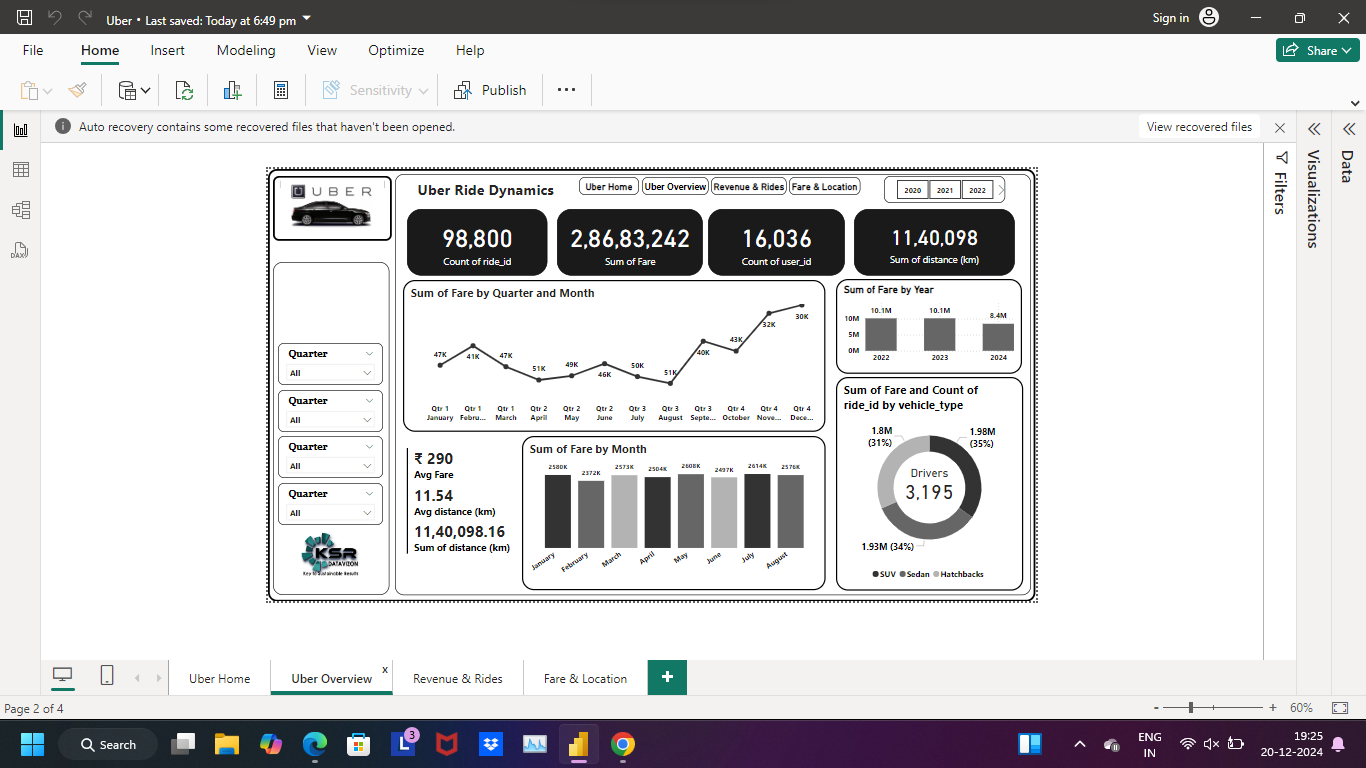

The page's visual inventory and layout, read from the dashboard file:
{"tool":"powerbi","page":{"name":"Uber Overview","canvas":[1280,720],"ordinal":1},"visuals":[{"type":"shape","box":[0,0,1279.2,720.8],"z":0},{"type":"shape","box":[211.3,7.5,1060.4,701.9],"z":1000},{"type":"slicer","fields":{"Values":["Sheet1.created_at.Variation.Date Hierarchy.Year"]},"box":[1026.4,11.3,202,45.3],"z":2000},{"type":"textbox","box":[232.1,11.3,262.3,41.5],"z":3000},{"type":"card","fields":{"Values":["Rides.distance (km)"]},"box":[977.4,66,267.9,111.3],"z":4000},{"type":"card","fields":{"Values":["Sheet1.user_id"]},"box":[734,66,228.3,111.3],"z":5000},{"type":"card","fields":{"Values":["Rides.Fare"]},"box":[481.1,66,243.4,111.3],"z":6000},{"type":"card","fields":{"Values":["Rides.ride_id"]},"box":[232.1,66,234,111.3],"z":7000},{"type":"columnChart","fields":{"Y":["Rides.Fare"],"Category":["Rides.ride_start_time.Variation.Date Hierarchy.Year"]},"box":[946.2,182.7,309.6,157.7],"z":8000},{"type":"donutChart","fields":{"Category":["row.vehicle_type"],"Y":["Rides.Fare"]},"box":[946.2,346.2,311.5,355.8],"z":9000},{"type":"lineChart","fields":{"Category":["Rides.ride_end_time.Variation.Date Hierarchy.Quarter","Rides.ride_end_time.Variation.Date Hierarchy.Month"],"Y":["Rides.Fare"]},"box":[224.5,184.9,703.8,252.8],"z":10000},{"type":"columnChart","fields":{"Y":["Rides.Fare"],"Category":["Rides.ride_start_time.Variation.Date Hierarchy.Month"]},"box":[422.6,445.3,505.7,256.6],"z":11000},{"type":"multiRowCard","fields":{"Values":["Rides.Fare","Rides.distance (km)","Rides.distance (km)"]},"box":[218.9,460.4,190,224.5],"z":12000},{"type":"shape","box":[7.5,154.7,194.3,554.7],"z":13000},{"type":"actionButton","box":[622.6,13.2,111,30.2],"z":14000},{"type":"actionButton","box":[867.9,13.2,118.9,30.2],"z":15000},{"type":"actionButton","box":[737.7,13.2,126.4,30.2],"z":16000},{"type":"slicer","fields":{"Values":["Rides.ride_end_time.Variation.Date Hierarchy.Quarter"]},"box":[17,522.6,175.5,69.8],"z":17000},{"type":"slicer","fields":{"Values":["Rides.ride_end_time.Variation.Date Hierarchy.Quarter"]},"box":[17,445.3,175.5,69.8],"z":18000},{"type":"slicer","fields":{"Values":["Rides.ride_end_time.Variation.Date Hierarchy.Quarter"]},"box":[17,367.9,175.5,69.8],"z":19000},{"type":"slicer","fields":{"Values":["Rides.ride_end_time.Variation.Date Hierarchy.Quarter"]},"box":[17,290.6,175.5,69.8],"z":20000},{"type":"image","box":[7.5,11.3,198.1,107.5],"z":21000},{"type":"image","box":[17,598.1,175.5,86.8],"z":22000},{"type":"card","title":"Drivers","fields":{"Values":["Rides.driver_id"]},"box":[1034.6,494.2,134.6,63.5],"z":23000},{"type":"actionButton","box":[518.9,13.2,100,30.2],"z":24000}]}

Visuals, with their boxes on the page's 1280x720 design canvas (x1, y1, x2, y2). These are canvas units, not pixel positions in the 1366x768 screenshot, which may show the page scaled, cropped or inside an application window:
shape: BBox(0, 0, 1279, 721)
shape: BBox(211, 8, 1272, 709)
slicer - Sheet1.created_at.Variation.Date Hierarchy.Year: BBox(1026, 11, 1228, 57)
textbox: BBox(232, 11, 494, 53)
card - Rides.distance (km): BBox(977, 66, 1245, 177)
card - Sheet1.user_id: BBox(734, 66, 962, 177)
card - Rides.Fare: BBox(481, 66, 724, 177)
card - Rides.ride_id: BBox(232, 66, 466, 177)
columnChart - Rides.Fare x Rides.ride_start_time.Variation.Date Hierarchy.Year: BBox(946, 183, 1256, 340)
donutChart - row.vehicle_type x Rides.Fare: BBox(946, 346, 1258, 702)
lineChart - Rides.ride_end_time.Variation.Date Hierarchy.Quarter x Rides.ride_end_time.Variation.Date Hierarchy.Month: BBox(224, 185, 928, 438)
columnChart - Rides.Fare x Rides.ride_start_time.Variation.Date Hierarchy.Month: BBox(423, 445, 928, 702)
multiRowCard - Rides.Fare x Rides.distance (km): BBox(219, 460, 409, 685)
shape: BBox(8, 155, 202, 709)
actionButton: BBox(623, 13, 734, 43)
actionButton: BBox(868, 13, 987, 43)
actionButton: BBox(738, 13, 864, 43)
slicer - Rides.ride_end_time.Variation.Date Hierarchy.Quarter: BBox(17, 523, 192, 592)
slicer - Rides.ride_end_time.Variation.Date Hierarchy.Quarter: BBox(17, 445, 192, 515)
slicer - Rides.ride_end_time.Variation.Date Hierarchy.Quarter: BBox(17, 368, 192, 438)
slicer - Rides.ride_end_time.Variation.Date Hierarchy.Quarter: BBox(17, 291, 192, 360)
image: BBox(8, 11, 206, 119)
image: BBox(17, 598, 192, 685)
"Drivers" card: BBox(1035, 494, 1169, 558)
actionButton: BBox(519, 13, 619, 43)
